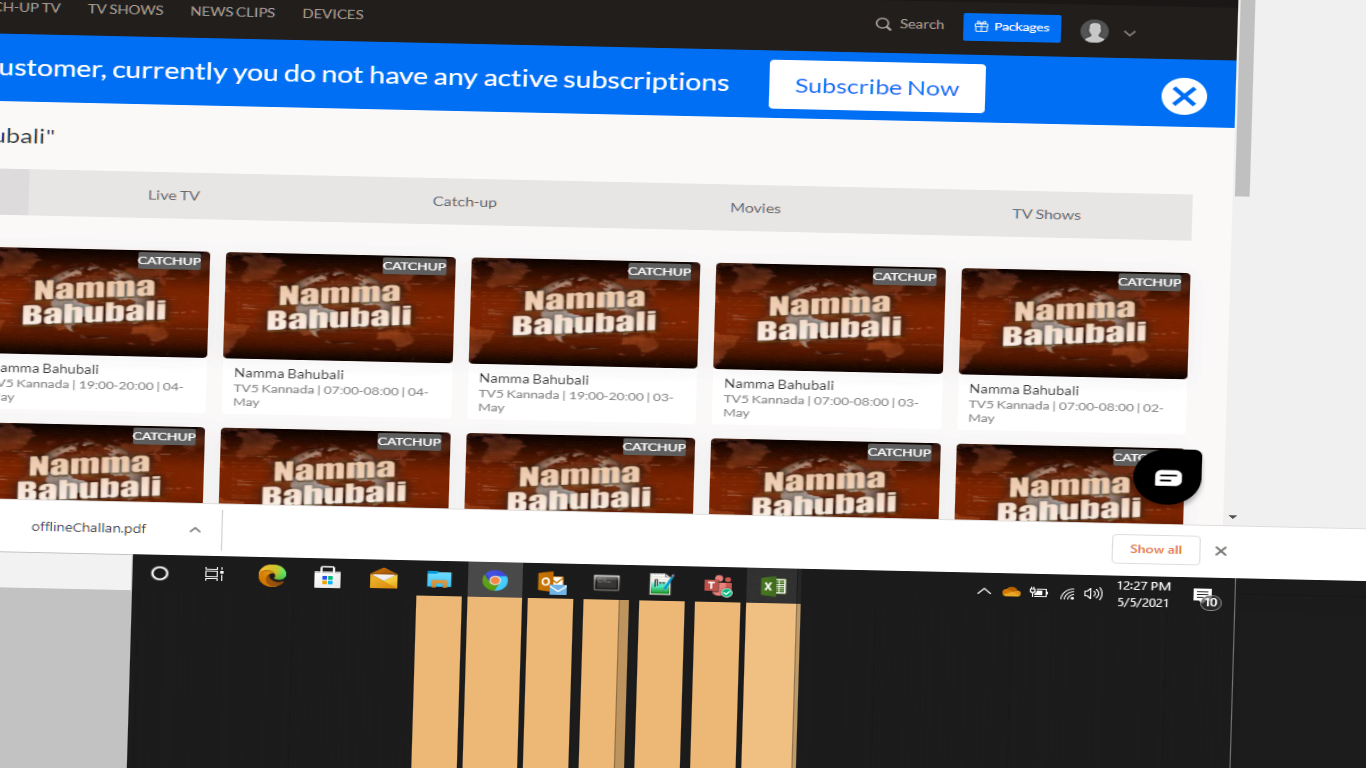profileicon: (1075, 14, 1127, 49)
resultsfound: (1, 120, 79, 153)
searchicon: (863, 8, 957, 45)
